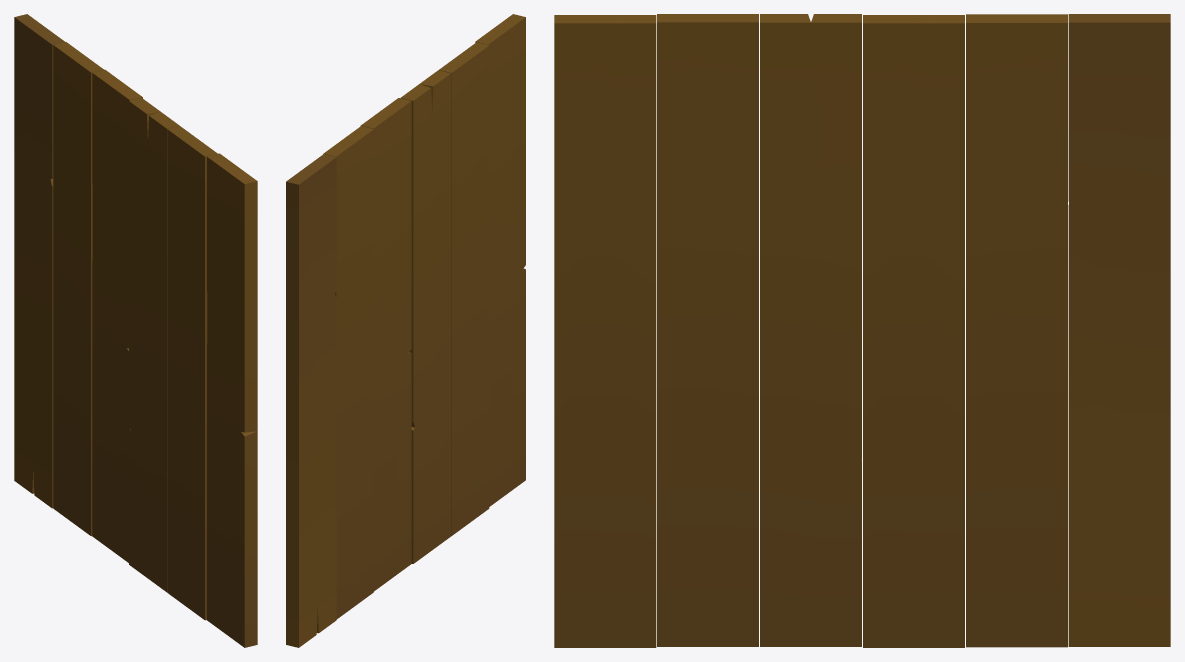
Rendered from WoodenWall.fbx.
3 views of the same model, side by side, from view 1: azimuth 30°, elevation 25°; view 2: azimuth 150°, elevation 25°; view 3: azimuth 270°, elevation 25° (orthographic). The views are drawn at different scales.
Visible parts, largest first — view 1: Door_02.001; view 2: Door_02.001; view 3: Door_02.001.
Part boxes in pixels (x1,y1,x2,y2): Door_02.001: (14, 14, 257, 647); Door_02.001: (286, 14, 525, 647); Door_02.001: (554, 14, 1170, 647).
Bounding box in the file's own units: 6.2 × 190 × 170.
